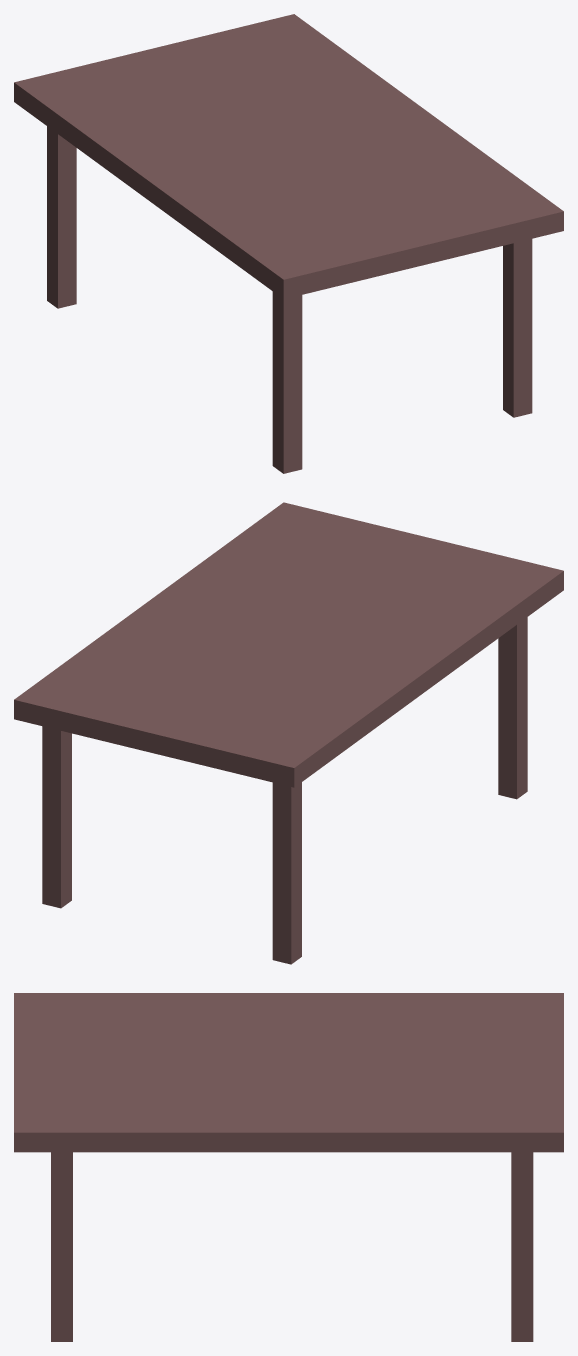
Rendered from table.fbx.
The picture shows the model from 3 angles, top to bottom: view 1: azimuth 30°, elevation 25°; view 2: azimuth 150°, elevation 25°; view 3: azimuth 270°, elevation 25°; orthographic projection.
Parts seen in each view (by area): view 1: table; view 2: table; view 3: table.
Boxes of the visible parts, x1,y1,x2,y2 form: table: (14, 14, 563, 473); table: (14, 502, 563, 964); table: (14, 993, 563, 1341).
Bounding box in the file's own units: 1.5 × 1.08 × 2.5.
